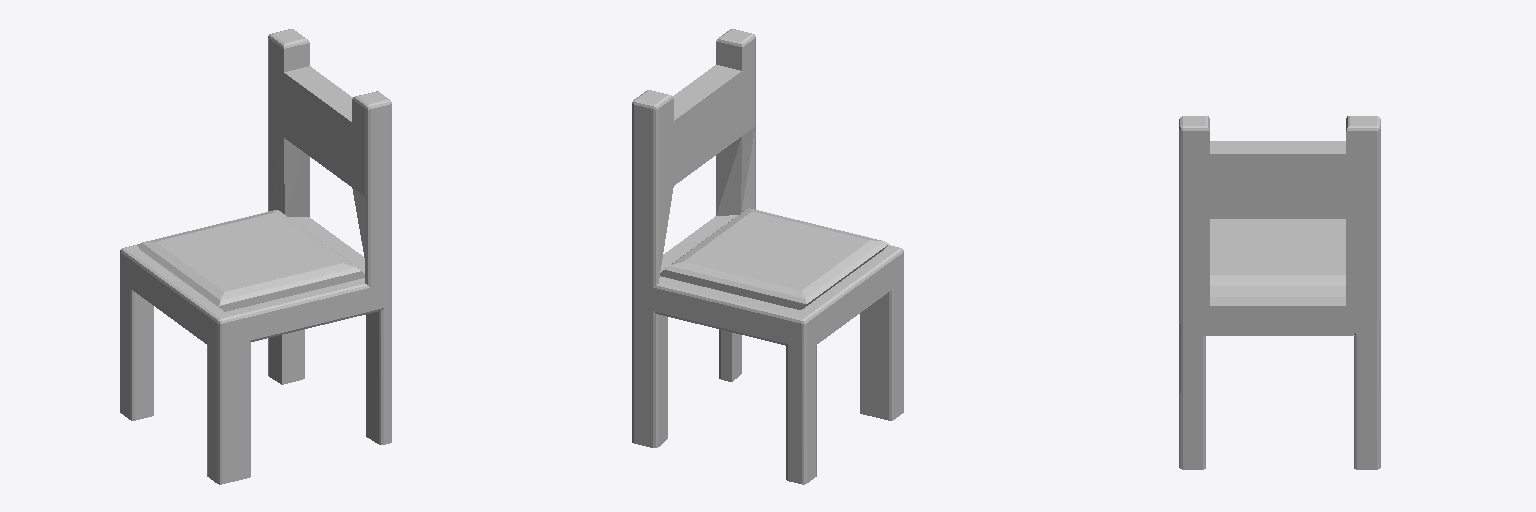
The model's file is DeskChair.obj.
3 renders of one model, left to right at view 1: azimuth 30°, elevation 25°; view 2: azimuth 150°, elevation 25°; view 3: azimuth 270°, elevation 25°, orthographic.
Parts seen in each view (by area): view 1: polySurface2; view 2: polySurface2; view 3: polySurface2.
Part boxes in pixels (x1,y1,x2,y2): polySurface2: (120,29,391,484); polySurface2: (632,29,903,484); polySurface2: (1179,116,1380,469).
Bounding box in the file's own units: 23.96 × 44.98 × 23.96.